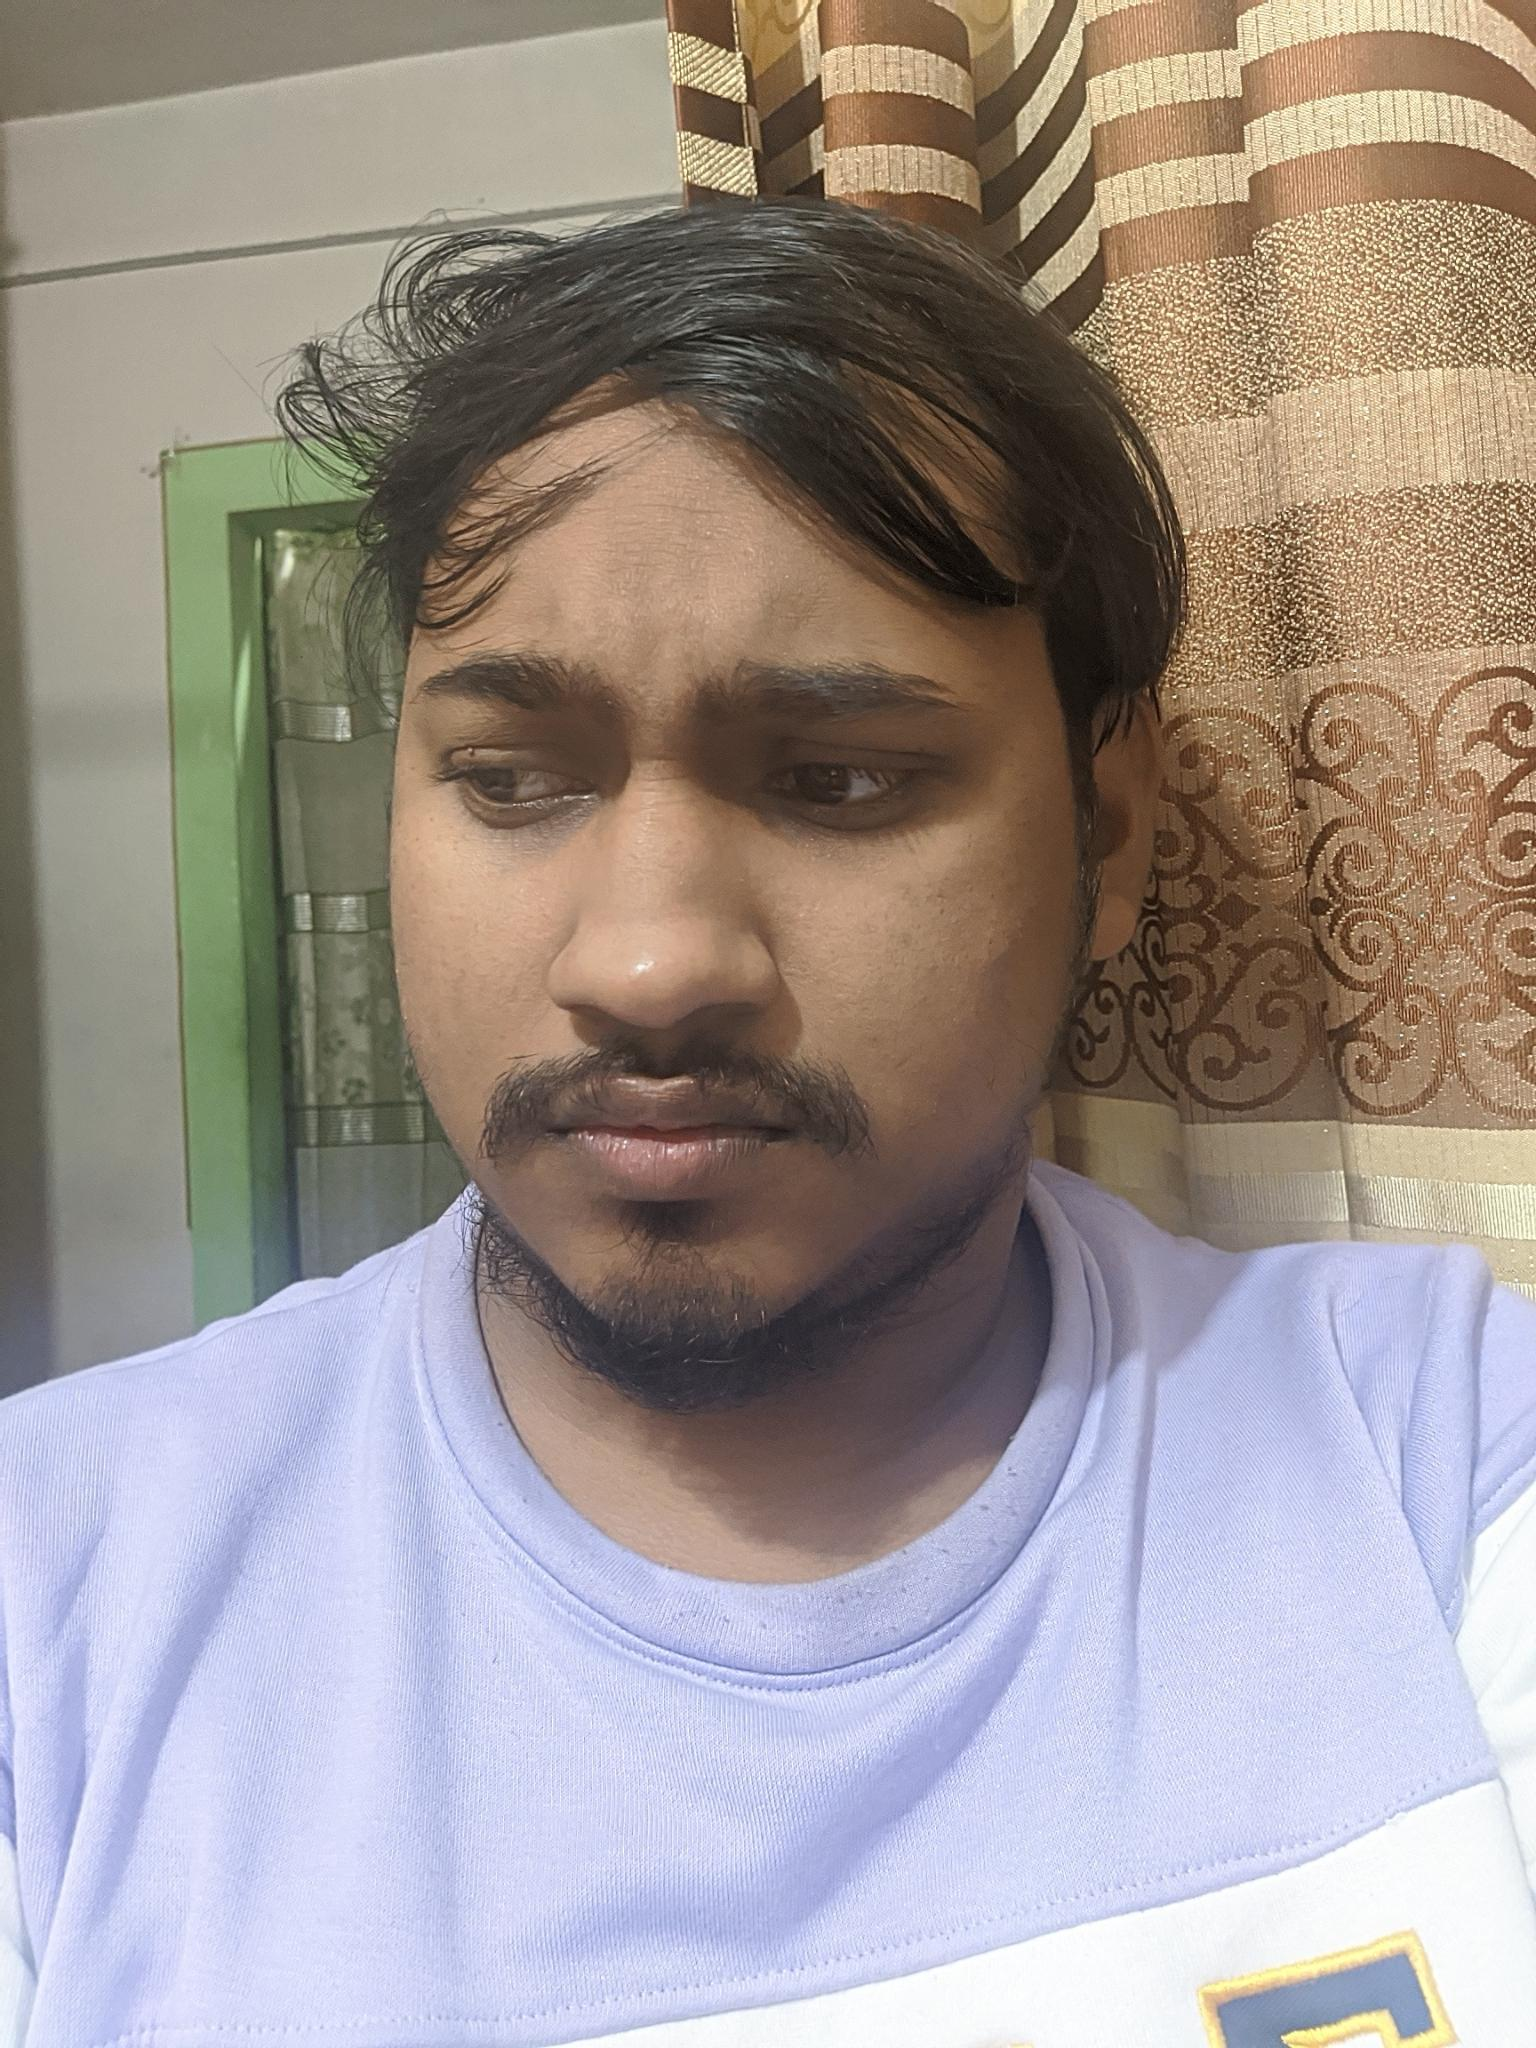Angry: (336, 508, 1091, 1326)
